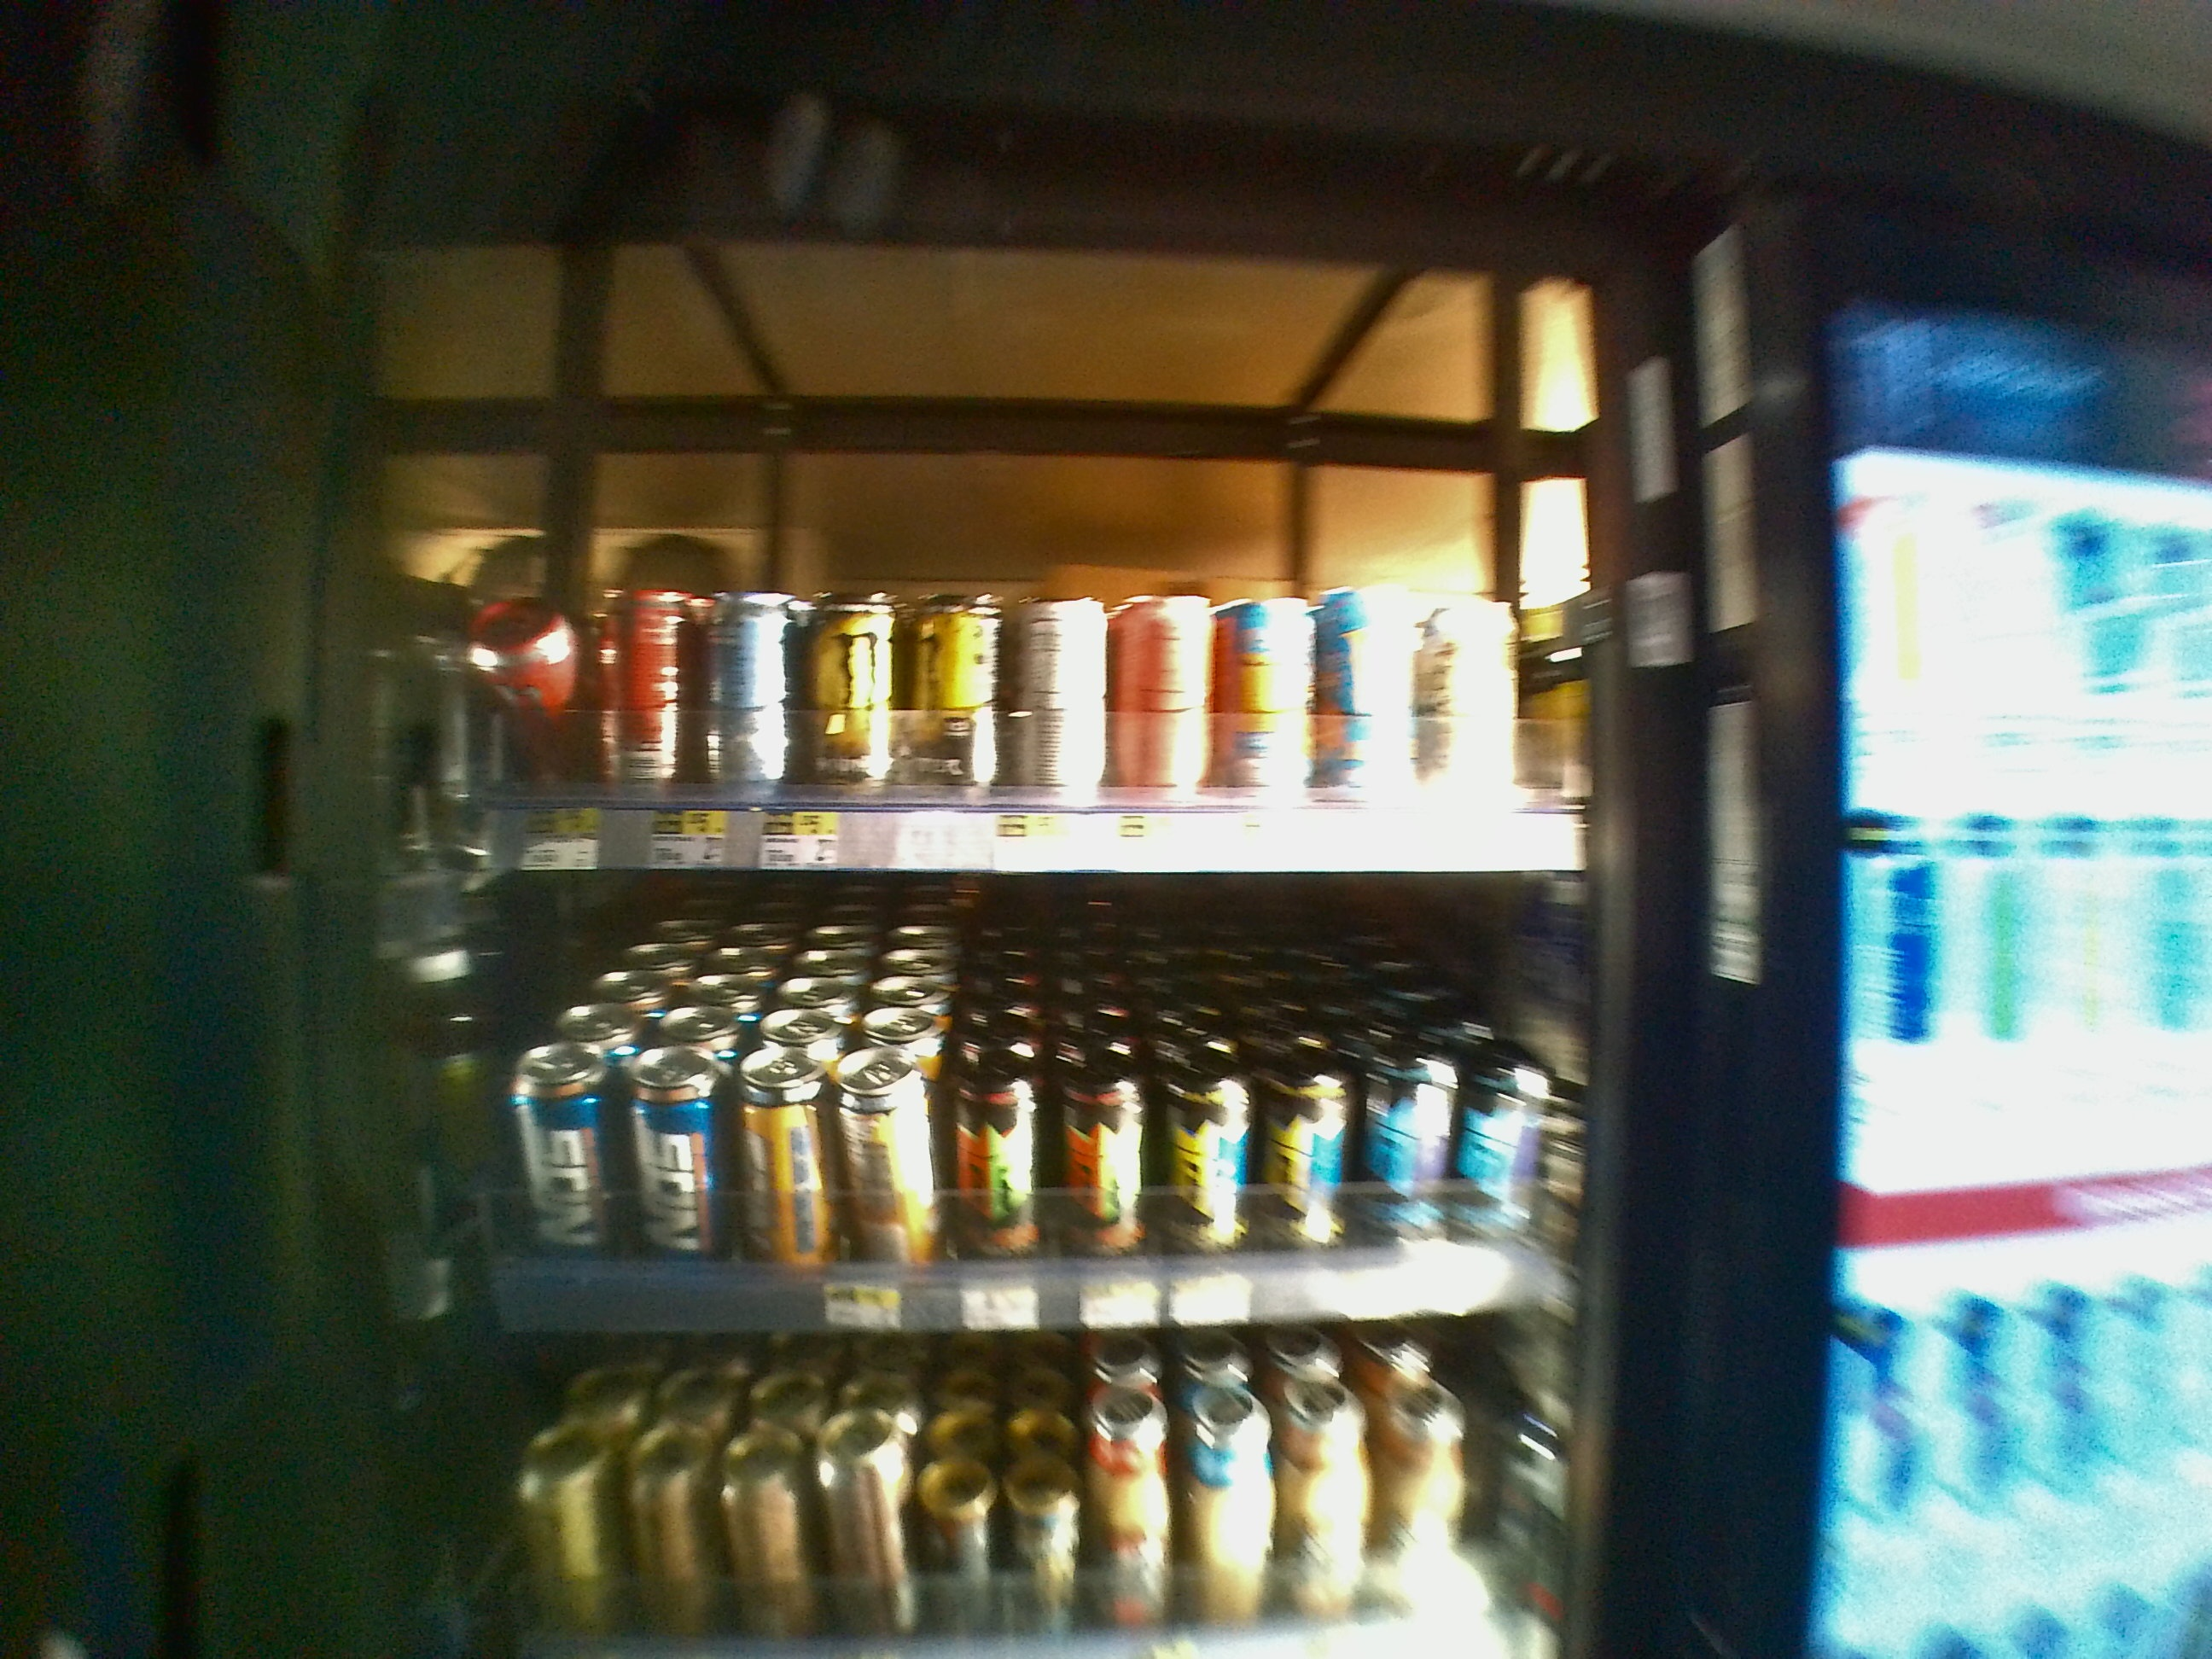shelf: (385, 251, 1611, 880), (364, 875, 1629, 1330)
